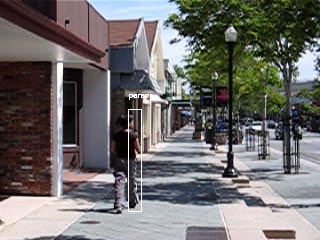person: (111, 112, 142, 214), (110, 112, 141, 214), (112, 112, 143, 214), (111, 111, 142, 213), (111, 113, 142, 215)
target_negative: (34, 112, 110, 188), (190, 131, 273, 183), (105, 237, 256, 239), (316, 3, 319, 62), (309, 224, 319, 232), (319, 118, 320, 184)
